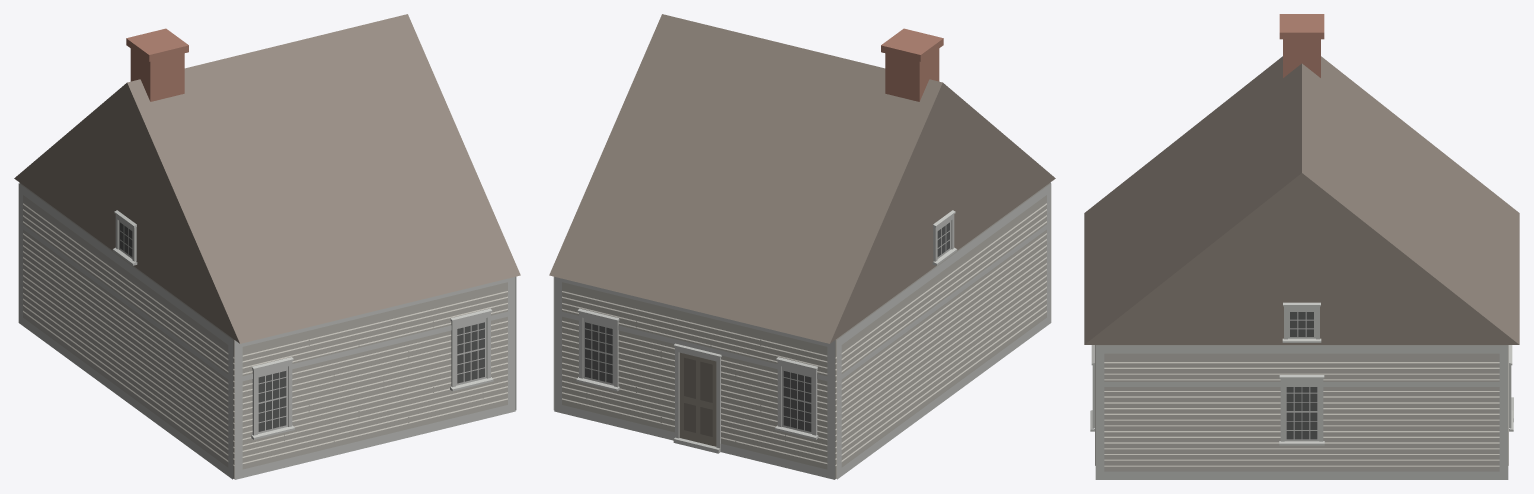
Rendered from recon_1835_blk_randolph_dearborn_d6_10__inferred_1835.glb.
The picture shows the model from 3 angles, left to right: view 1: azimuth 30°, elevation 25°; view 2: azimuth 150°, elevation 25°; view 3: azimuth 270°, elevation 25°; orthographic projection. The views are drawn at different scales.
Visible parts, largest first — view 1: recon_1835_blk_randolph_dearborn_d6_10__inferred_1835; view 2: recon_1835_blk_randolph_dearborn_d6_10__inferred_1835; view 3: recon_1835_blk_randolph_dearborn_d6_10__inferred_1835.
Boxes of the visible parts, bbox=[...] form: recon_1835_blk_randolph_dearborn_d6_10__inferred_1835: bbox=[14, 14, 520, 479]; recon_1835_blk_randolph_dearborn_d6_10__inferred_1835: bbox=[549, 14, 1055, 479]; recon_1835_blk_randolph_dearborn_d6_10__inferred_1835: bbox=[1084, 14, 1519, 479].
Size of the model in its own units: 7.12 by 8.25 by 9.61.
